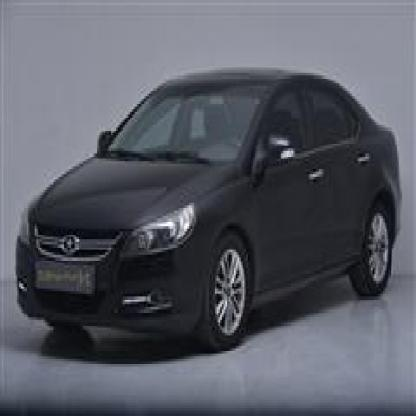Car: (12, 54, 404, 348)
